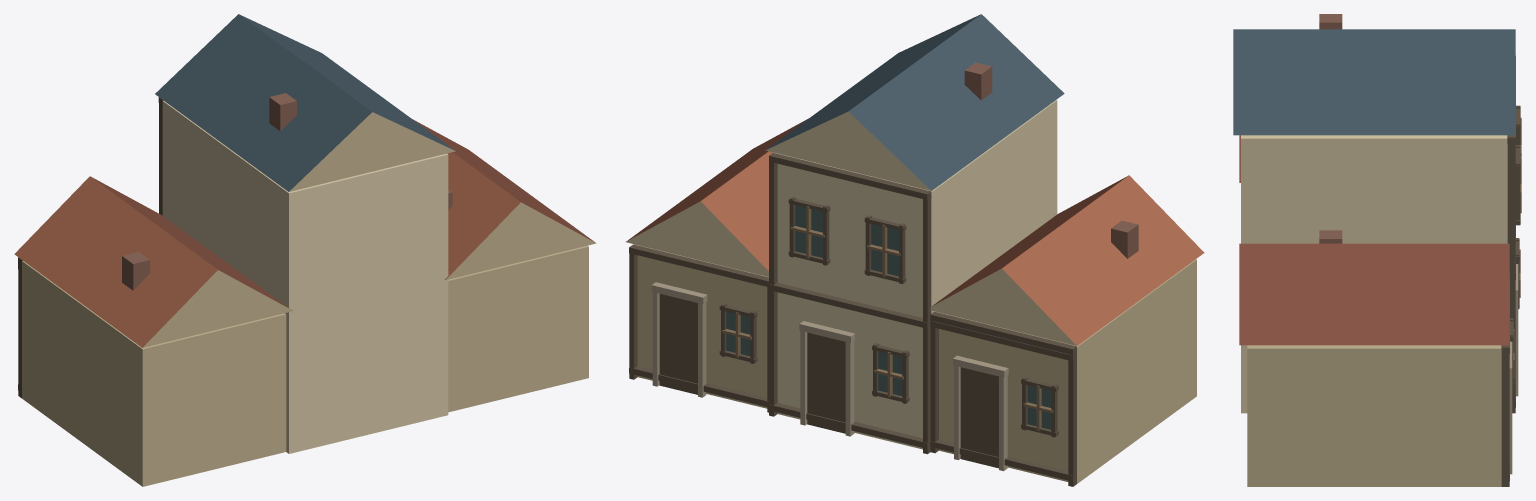
The model's file is WalkTown_RowA.fbx.
3 renders of one model, left to right at view 1: azimuth 30°, elevation 25°; view 2: azimuth 150°, elevation 25°; view 3: azimuth 270°, elevation 25°, orthographic. The views are drawn at different scales.
Parts seen in each view (by area): view 1: WalkTown_RowA; view 2: WalkTown_RowA; view 3: WalkTown_RowA.
Part boxes in pixels (box(x1,y1,x2,y2)): WalkTown_RowA: box(14, 14, 596, 486); WalkTown_RowA: box(626, 14, 1204, 486); WalkTown_RowA: box(1233, 14, 1521, 486).
Bounding box in the file's own units: 11.4 × 7.8 × 5.95.
